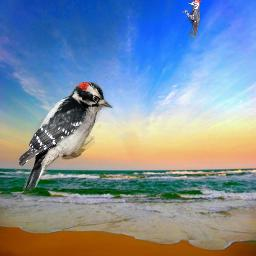Woodpecker: (18, 82, 116, 194), (182, 0, 201, 38)
